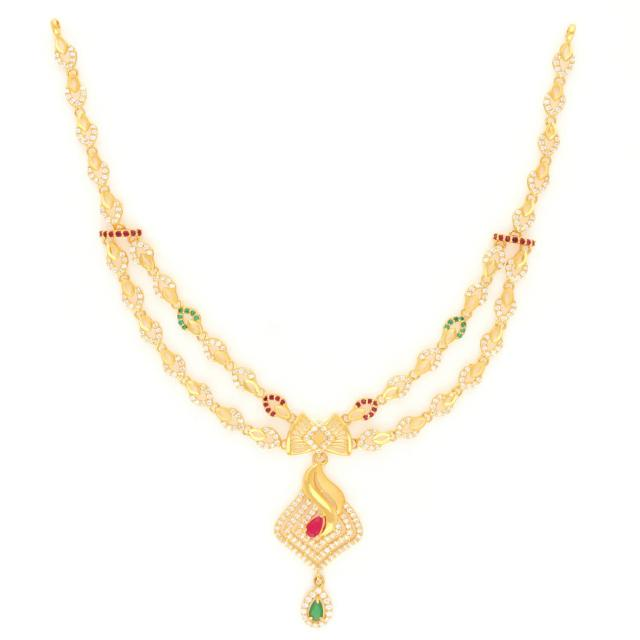missing gem: (310, 429, 328, 445)
